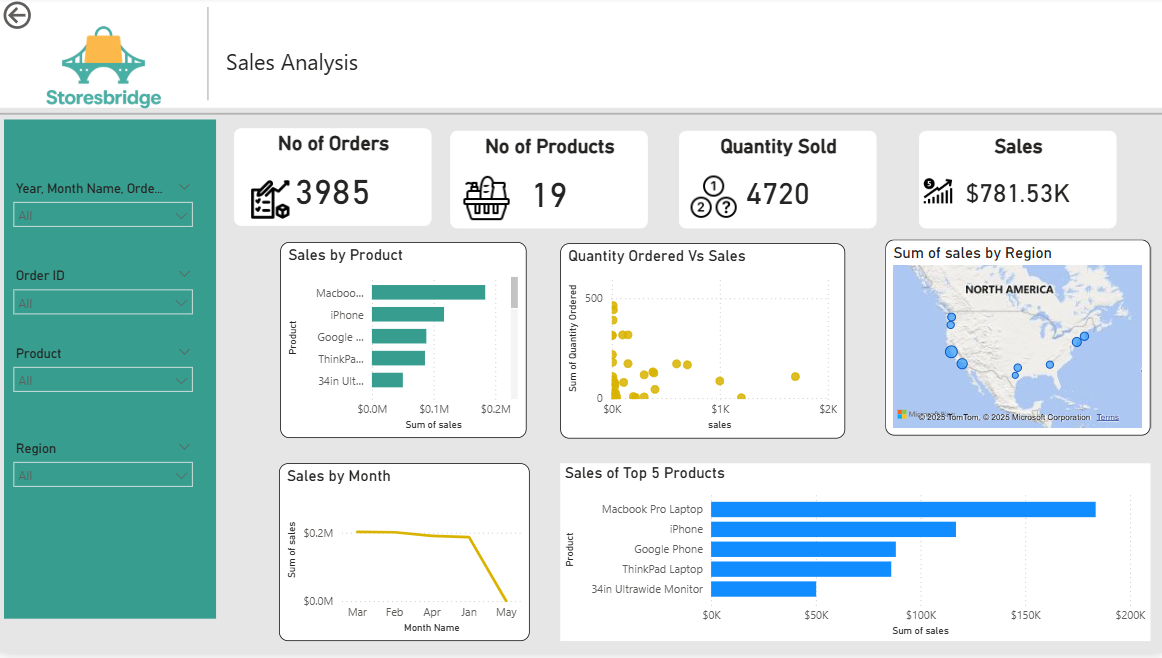

Layout of this report page (visuals, bound fields, positions):
{"tool":"powerbi","page":{"name":"Page 1","canvas":[1280,720],"ordinal":0},"visuals":[{"type":"shape","box":[0,121.9,1280,12.1],"z":0},{"type":"textbox","box":[0,0,1280,121.9],"z":1000},{"type":"shape","box":[160.5,10.9,137.5,102.5],"z":2000},{"type":"textbox","box":[244.9,49.5,171.3,48.3],"z":3000},{"type":"card","title":"No of Orders","fields":{"Values":["Count(Data-Sets.Order ID)"]},"box":[258.2,143.6,217.2,107.4],"z":4000},{"type":"card","title":"No of Products","fields":{"Values":["Count(Data-Sets.Product)"]},"box":[495.8,147.2,217.2,107.4],"z":5000},{"type":"card","title":"Quantity Sold","fields":{"Values":["Sum(Data-Sets.Quantity Ordered)"]},"box":[746.8,147.2,217.2,107.4],"z":6000},{"type":"card","title":"Sales","fields":{"Values":["Sum(Data-Sets.sales)"]},"box":[1009.8,147.2,217.2,107.4],"z":7000},{"type":"textbox","box":[6,133.9,232.8,547.7],"z":8000},{"type":"image","box":[216,193,164.1,57.9],"z":9000},{"type":"image","box":[475.3,189.4,120.6,65.1],"z":10000},{"type":"image","box":[725.1,188.2,119.4,62.7],"z":11000},{"type":"image","box":[1000.1,189.4,61.5,48.3],"z":12000},{"type":"slicer","fields":{"Values":["Data-Sets.Year","Data-Sets.Month Name","Data-Sets.Order Date"]},"box":[6,196.6,217.2,133.9],"z":13000},{"type":"image","box":[0,0,229.2,159.3],"z":14000},{"type":"slicer","fields":{"Values":["Data-Sets.Order ID"]},"box":[6,292,217.2,133.9],"z":15000},{"type":"slicer","fields":{"Values":["Data-Sets.Product"]},"box":[6,377.6,217.2,133.9],"z":16000},{"type":"slicer","fields":{"Values":["Data-Sets.Region"]},"box":[6,481.4,217.2,133.9],"z":17000},{"type":"actionButton","box":[0,0,100,40],"z":18000},{"type":"map","fields":{"Category":["Data-Sets.Region"],"Size":["Sum(Data-Sets.sales)"]},"box":[972.9,266.2,290.9,215.4],"z":19000},{"type":"scatterChart","title":"Quantity Ordered Vs Sales","fields":{"X":["Data-Sets.sales"],"Y":["Sum(Data-Sets.Quantity Ordered)"]},"box":[616.1,270.3,312.9,214.1],"z":20000},{"type":"lineChart","title":" Sales by Month","fields":{"Y":["Sum(Data-Sets.sales)"],"Category":["Data-Sets.Month Name"]},"box":[307.6,511.5,275.1,195.4],"z":21000},{"type":"clusteredBarChart","title":" Sales by Product","fields":{"Category":["Data-Sets.Product"],"Y":["Sum(Data-Sets.sales)"]},"box":[308.7,269,270.3,215.4],"z":22000},{"type":"barChart","fields":{"Category":["Data-Sets.Product"],"Y":["Sum(Data-Sets.sales)"]},"box":[616.1,511.8,647.7,194.9],"z":23000}]}

Visuals, with their boxes in screenshot pixels (x1, y1, x2, y2):
shape: x1=0 y1=112 x2=1143 y2=123
textbox: x1=0 y1=3 x2=1143 y2=112
shape: x1=141 y1=13 x2=264 y2=105
textbox: x1=216 y1=47 x2=370 y2=91
"No of Orders" card: x1=228 y1=132 x2=423 y2=228
"No of Products" card: x1=441 y1=135 x2=635 y2=231
"Quantity Sold" card: x1=666 y1=135 x2=860 y2=231
"Sales" card: x1=901 y1=135 x2=1095 y2=231
textbox: x1=2 y1=123 x2=211 y2=613
image: x1=190 y1=176 x2=337 y2=228
image: x1=422 y1=173 x2=530 y2=231
image: x1=646 y1=172 x2=753 y2=228
image: x1=892 y1=173 x2=947 y2=216
slicer - Data-Sets.Year x Data-Sets.Month Name: x1=2 y1=179 x2=197 y2=299
image: x1=0 y1=3 x2=202 y2=146
slicer - Data-Sets.Order ID: x1=2 y1=264 x2=197 y2=384
slicer - Data-Sets.Product: x1=2 y1=341 x2=197 y2=461
slicer - Data-Sets.Region: x1=2 y1=434 x2=197 y2=554
actionButton: x1=0 y1=3 x2=86 y2=39
map - Data-Sets.Region x Sum(Data-Sets.sales): x1=868 y1=241 x2=1128 y2=434
"Quantity Ordered Vs Sales" scatterChart: x1=549 y1=245 x2=829 y2=437
" Sales by Month" lineChart: x1=272 y1=461 x2=519 y2=636
" Sales by Product" clusteredBarChart: x1=273 y1=244 x2=515 y2=437
barChart - Data-Sets.Product x Sum(Data-Sets.sales): x1=549 y1=461 x2=1128 y2=636
